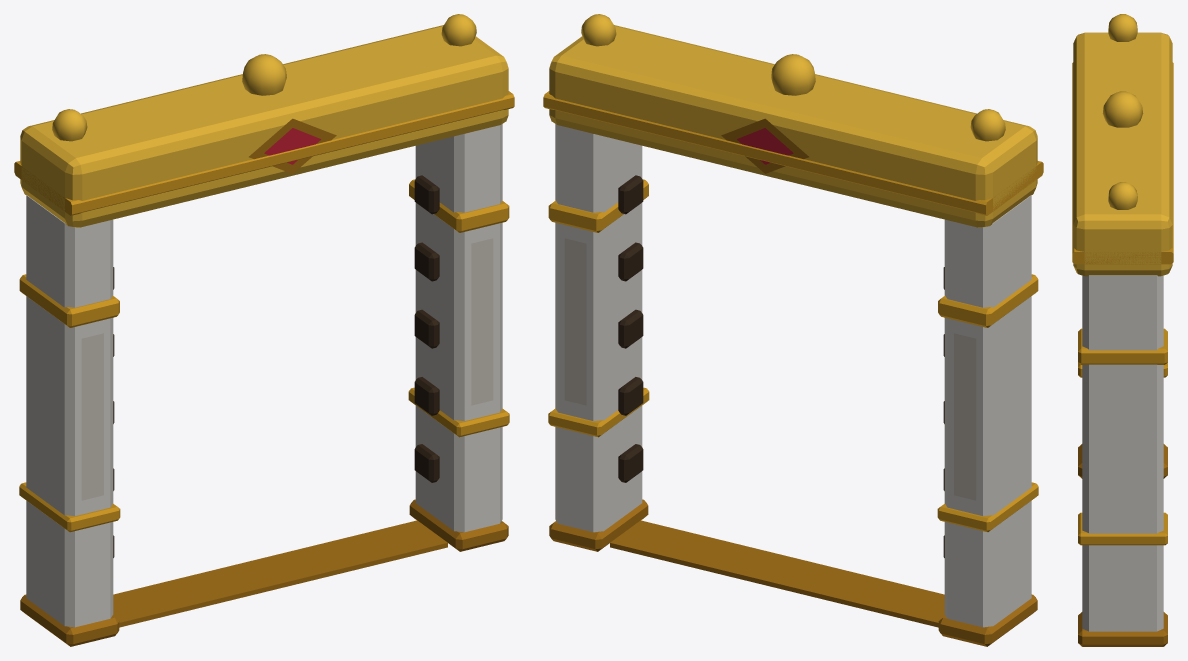
Rendered from toy-gateframe.glb.
3 renders of one model, left to right at view 1: azimuth 30°, elevation 25°; view 2: azimuth 150°, elevation 25°; view 3: azimuth 270°, elevation 25°, orthographic. The views are drawn at different scales.
Visible parts, largest first — view 1: toy-gateframe; view 2: toy-gateframe; view 3: toy-gateframe.
Part boxes in pixels (x1,y1,x2,y2): toy-gateframe: [14, 14, 514, 646]; toy-gateframe: [543, 14, 1043, 646]; toy-gateframe: [1072, 14, 1173, 646].
Size of the model in its own units: 2 by 2.25 by 0.45.
